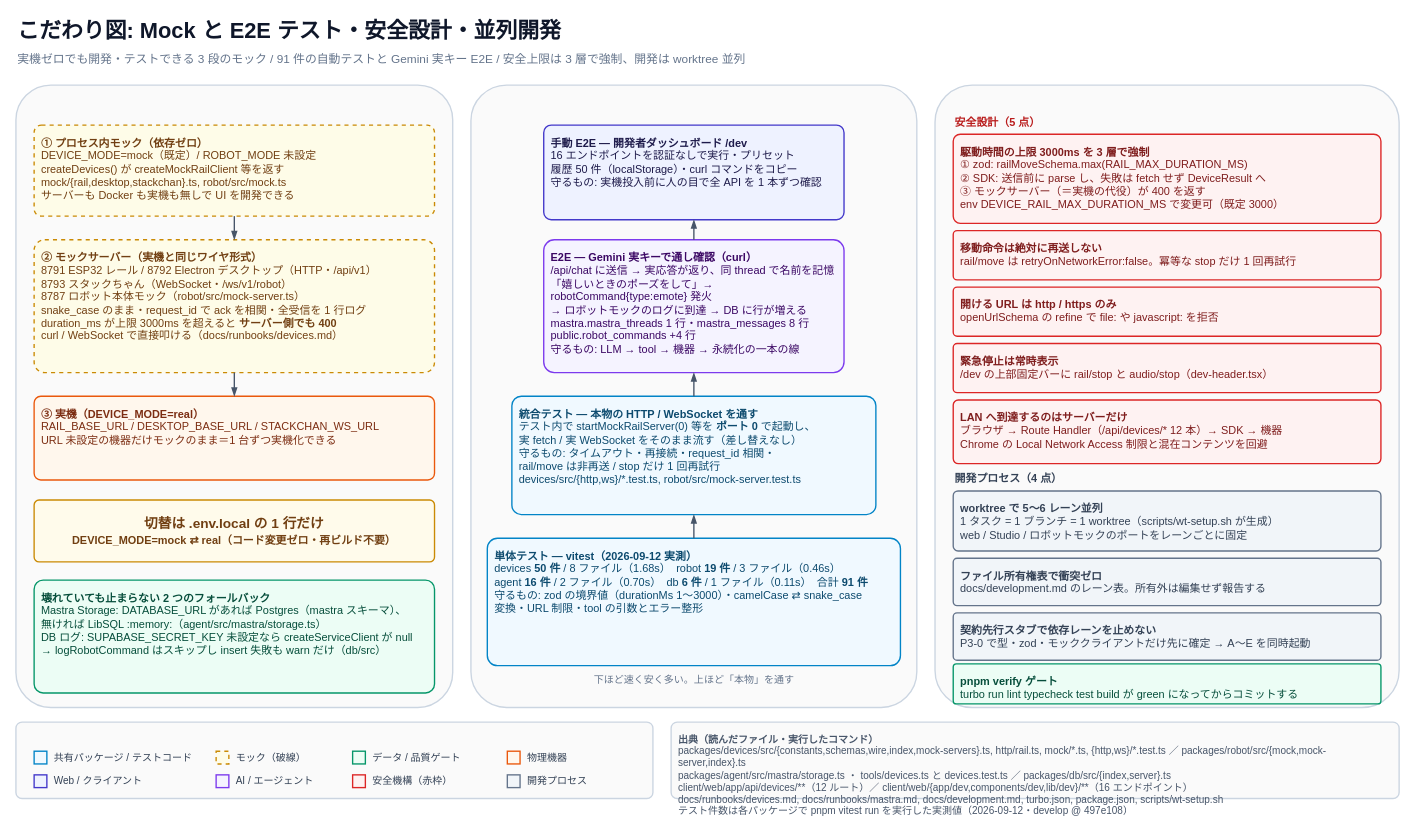
The diagram is 1416 pixels wide and 833 high, and some of its shapes have lost their labels. The shapes that lost their labels are listed below. From the top down, each one's box as (x1, y1, x2, y2) in pixels, then its label:
(15, 84, 453, 708): モックの 3 段構え
(470, 84, 917, 708): テストピラミッド
(934, 84, 1399, 708): 安全設計 × 開発プロセス
(15, 721, 653, 799): 凡例
